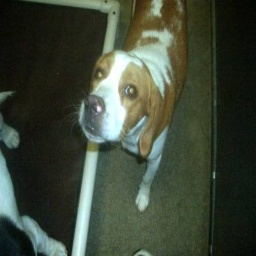dog: (71, 0, 189, 213)
